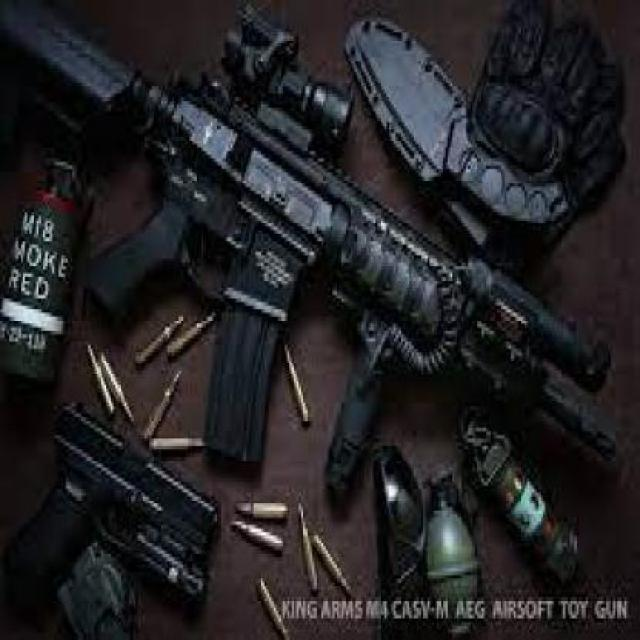Grenade: (462, 409, 584, 597), (0, 152, 89, 397), (423, 471, 488, 637)
Knife: (343, 15, 574, 228)
Pistol: (0, 396, 222, 636)
Rifle: (0, 0, 623, 497)
